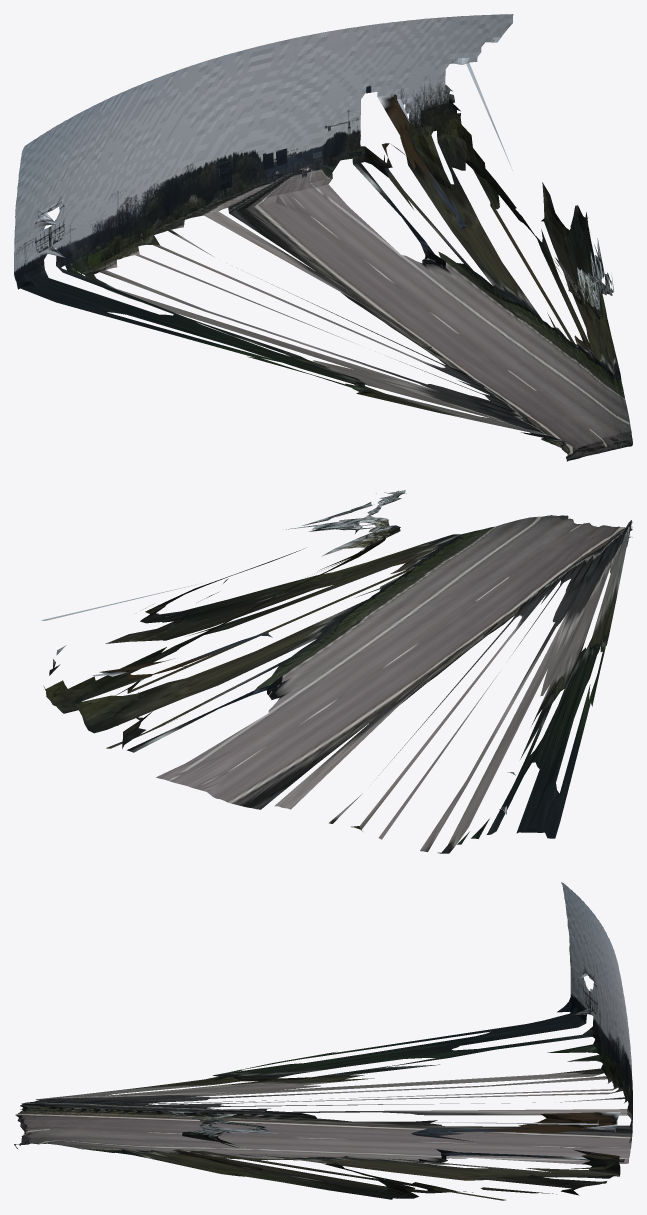
3 views of the same model, one above another, from view 1: azimuth 30°, elevation 25°; view 2: azimuth 150°, elevation 25°; view 3: azimuth 270°, elevation 25° (orthographic). The views are drawn at different scales.
Visible parts, largest first — view 1: defaultobject; view 2: defaultobject; view 3: defaultobject.
Boxes of the visible parts, box(x1,y1,x2,y2) form: defaultobject: box(14, 14, 632, 461); defaultobject: box(41, 490, 632, 853); defaultobject: box(14, 882, 632, 1200).
Bounding box in the file's own units: 37.56 × 13.02 × 44.59.
1 material, 1 textured.
